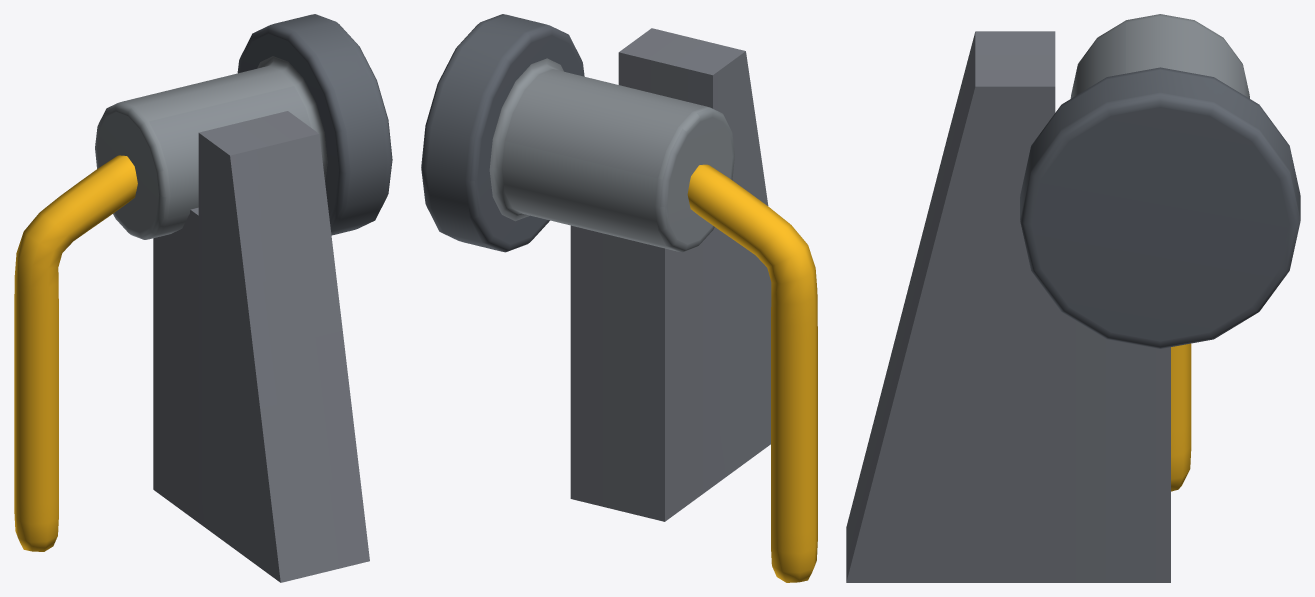
The model's file is SM_Watermill_Motor.fbx.
3 views of the same model, side by side, from view 1: azimuth 30°, elevation 25°; view 2: azimuth 150°, elevation 25°; view 3: azimuth 270°, elevation 25° (orthographic). The views are drawn at different scales.
Visible parts, largest first — view 1: SM_Watermill_Motor; view 2: SM_Watermill_Motor; view 3: SM_Watermill_Motor.
Part boxes in pixels (<box>): SM_Watermill_Motor: <box>14,14,392,582</box>; SM_Watermill_Motor: <box>421,14,817,582</box>; SM_Watermill_Motor: <box>846,14,1300,582</box>.
Bounding box in the file's own units: 125 × 171 × 121.
